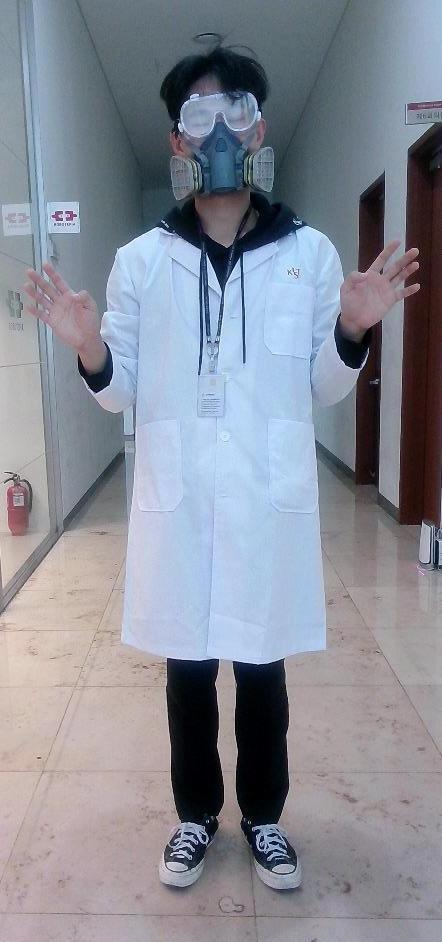lab_coat: (115, 240, 328, 656)
